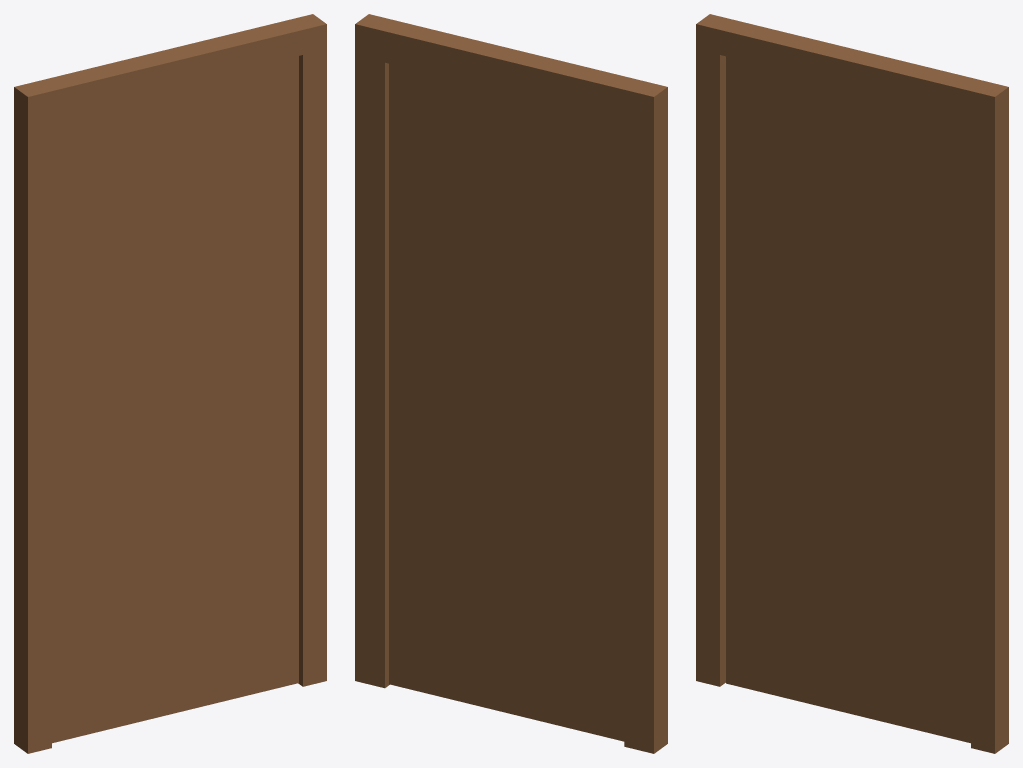
The model's file is Door.fbx.
The picture shows the model from 3 angles, left to right: view 1: azimuth 30°, elevation 25°; view 2: azimuth 150°, elevation 25°; view 3: azimuth 330°, elevation 25°; orthographic projection.
Parts seen in each view (by area): view 1: Door, DoorFrame; view 2: Door, DoorFrame; view 3: Door, DoorFrame.
Boxes of the visible parts, x1,y1,x2,y2 form: Door: [52, 56, 298, 743]; DoorFrame: [14, 14, 326, 753]; Door: [389, 63, 624, 741]; DoorFrame: [355, 14, 667, 753]; Door: [726, 56, 970, 743]; DoorFrame: [696, 14, 1008, 753].
Size of the model in its own units: 500 by 1050 by 40.
